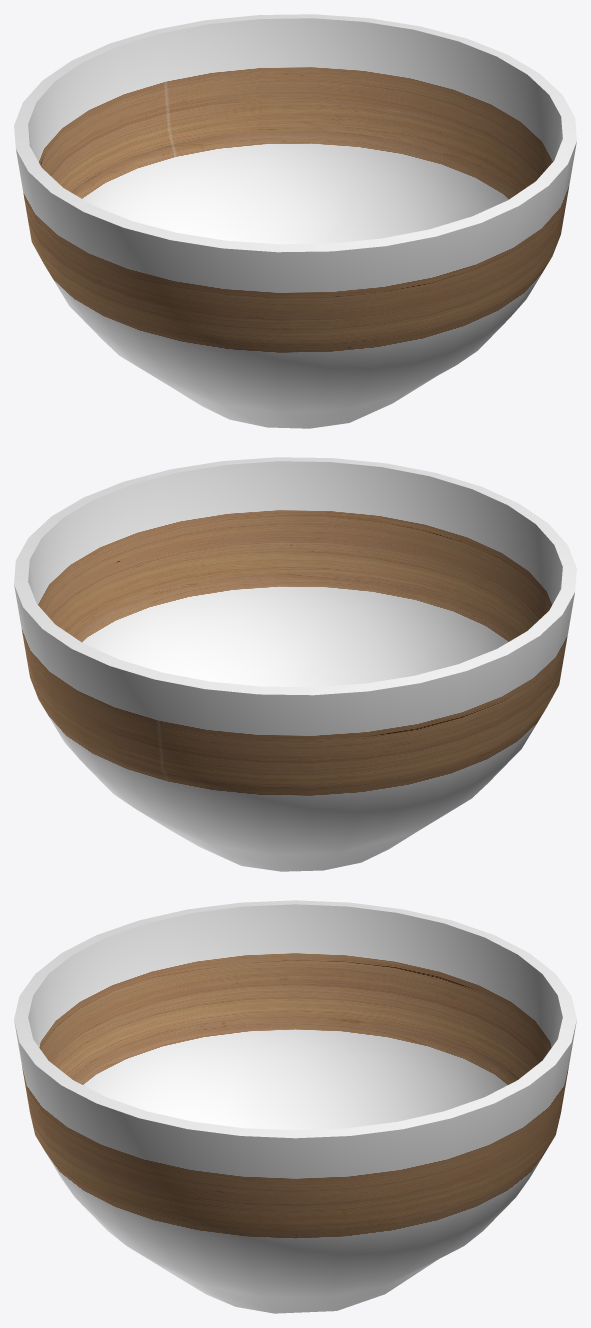
Rendered from Vase 2.FBX.
3 views of the same model, one above another, from view 1: azimuth 30°, elevation 25°; view 2: azimuth 150°, elevation 25°; view 3: azimuth 270°, elevation 25° (orthographic).
Visible parts, largest first — view 1: vase 2; view 2: vase 2; view 3: vase 2.
Part boxes in pixels (bbox=[...]): vase 2: bbox=[14, 14, 576, 428]; vase 2: bbox=[14, 457, 576, 871]; vase 2: bbox=[14, 900, 576, 1313].
Bounding box in the file's own units: 23.89 × 11.78 × 23.89.
Materials: 1 (1 with a texture image).
